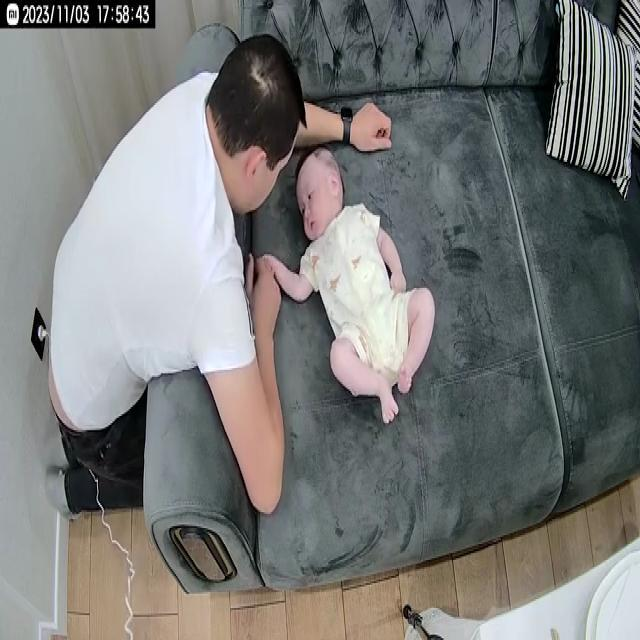baby: (253, 139, 438, 425)
